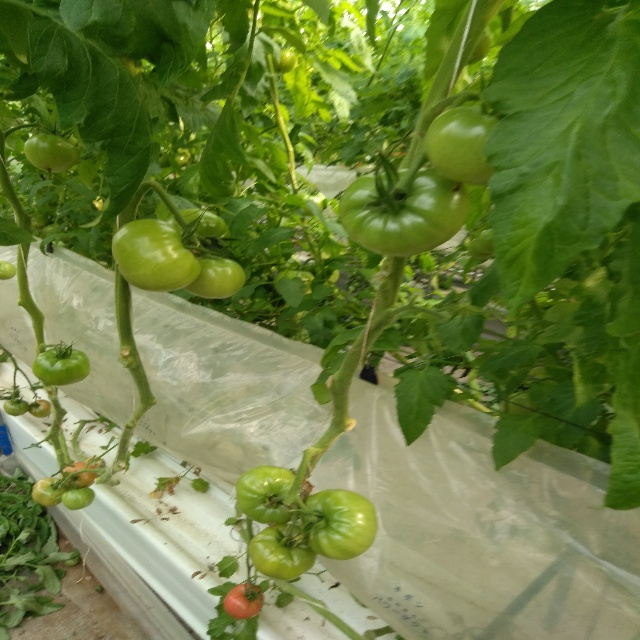b_green: (338, 166, 471, 257), (111, 219, 201, 293), (423, 106, 505, 185), (301, 488, 378, 561), (235, 466, 310, 524), (247, 524, 317, 580), (165, 208, 231, 257), (182, 256, 247, 300), (32, 347, 91, 386), (23, 133, 79, 173), (32, 478, 70, 506), (61, 488, 95, 511), (3, 398, 30, 416), (0, 261, 17, 280)
b_half_ripened: (224, 583, 265, 619), (59, 462, 96, 489), (29, 399, 51, 418)
